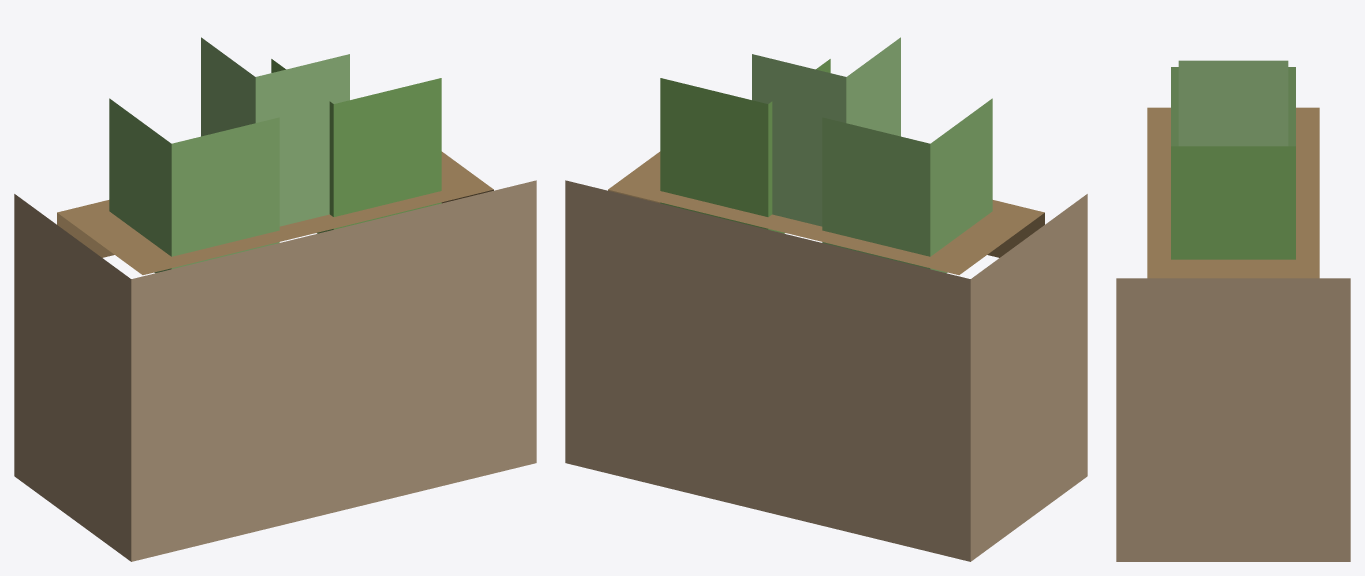
Rendered from planter_box.glb.
The picture shows the model from 3 angles, left to right: view 1: azimuth 30°, elevation 25°; view 2: azimuth 150°, elevation 25°; view 3: azimuth 270°, elevation 25°; orthographic projection.
Size of the model in its own units: 0.6 by 0.6 by 0.3.
